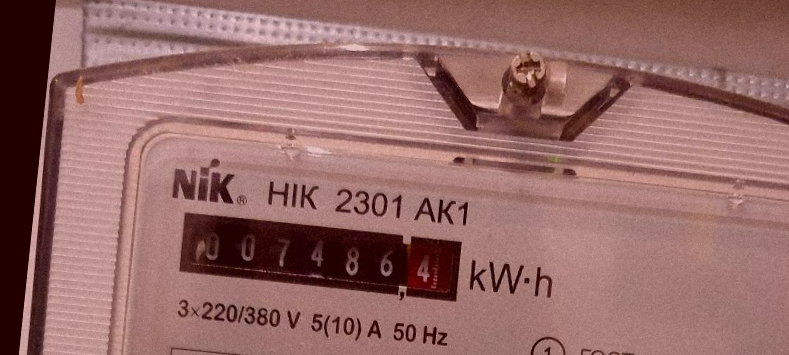0: (200, 228, 223, 264), (237, 230, 258, 264)
4: (306, 234, 327, 270), (413, 250, 433, 285)
6: (376, 246, 398, 280)
7: (269, 234, 295, 269)
8: (342, 244, 362, 280)
screen: (167, 200, 472, 314)
